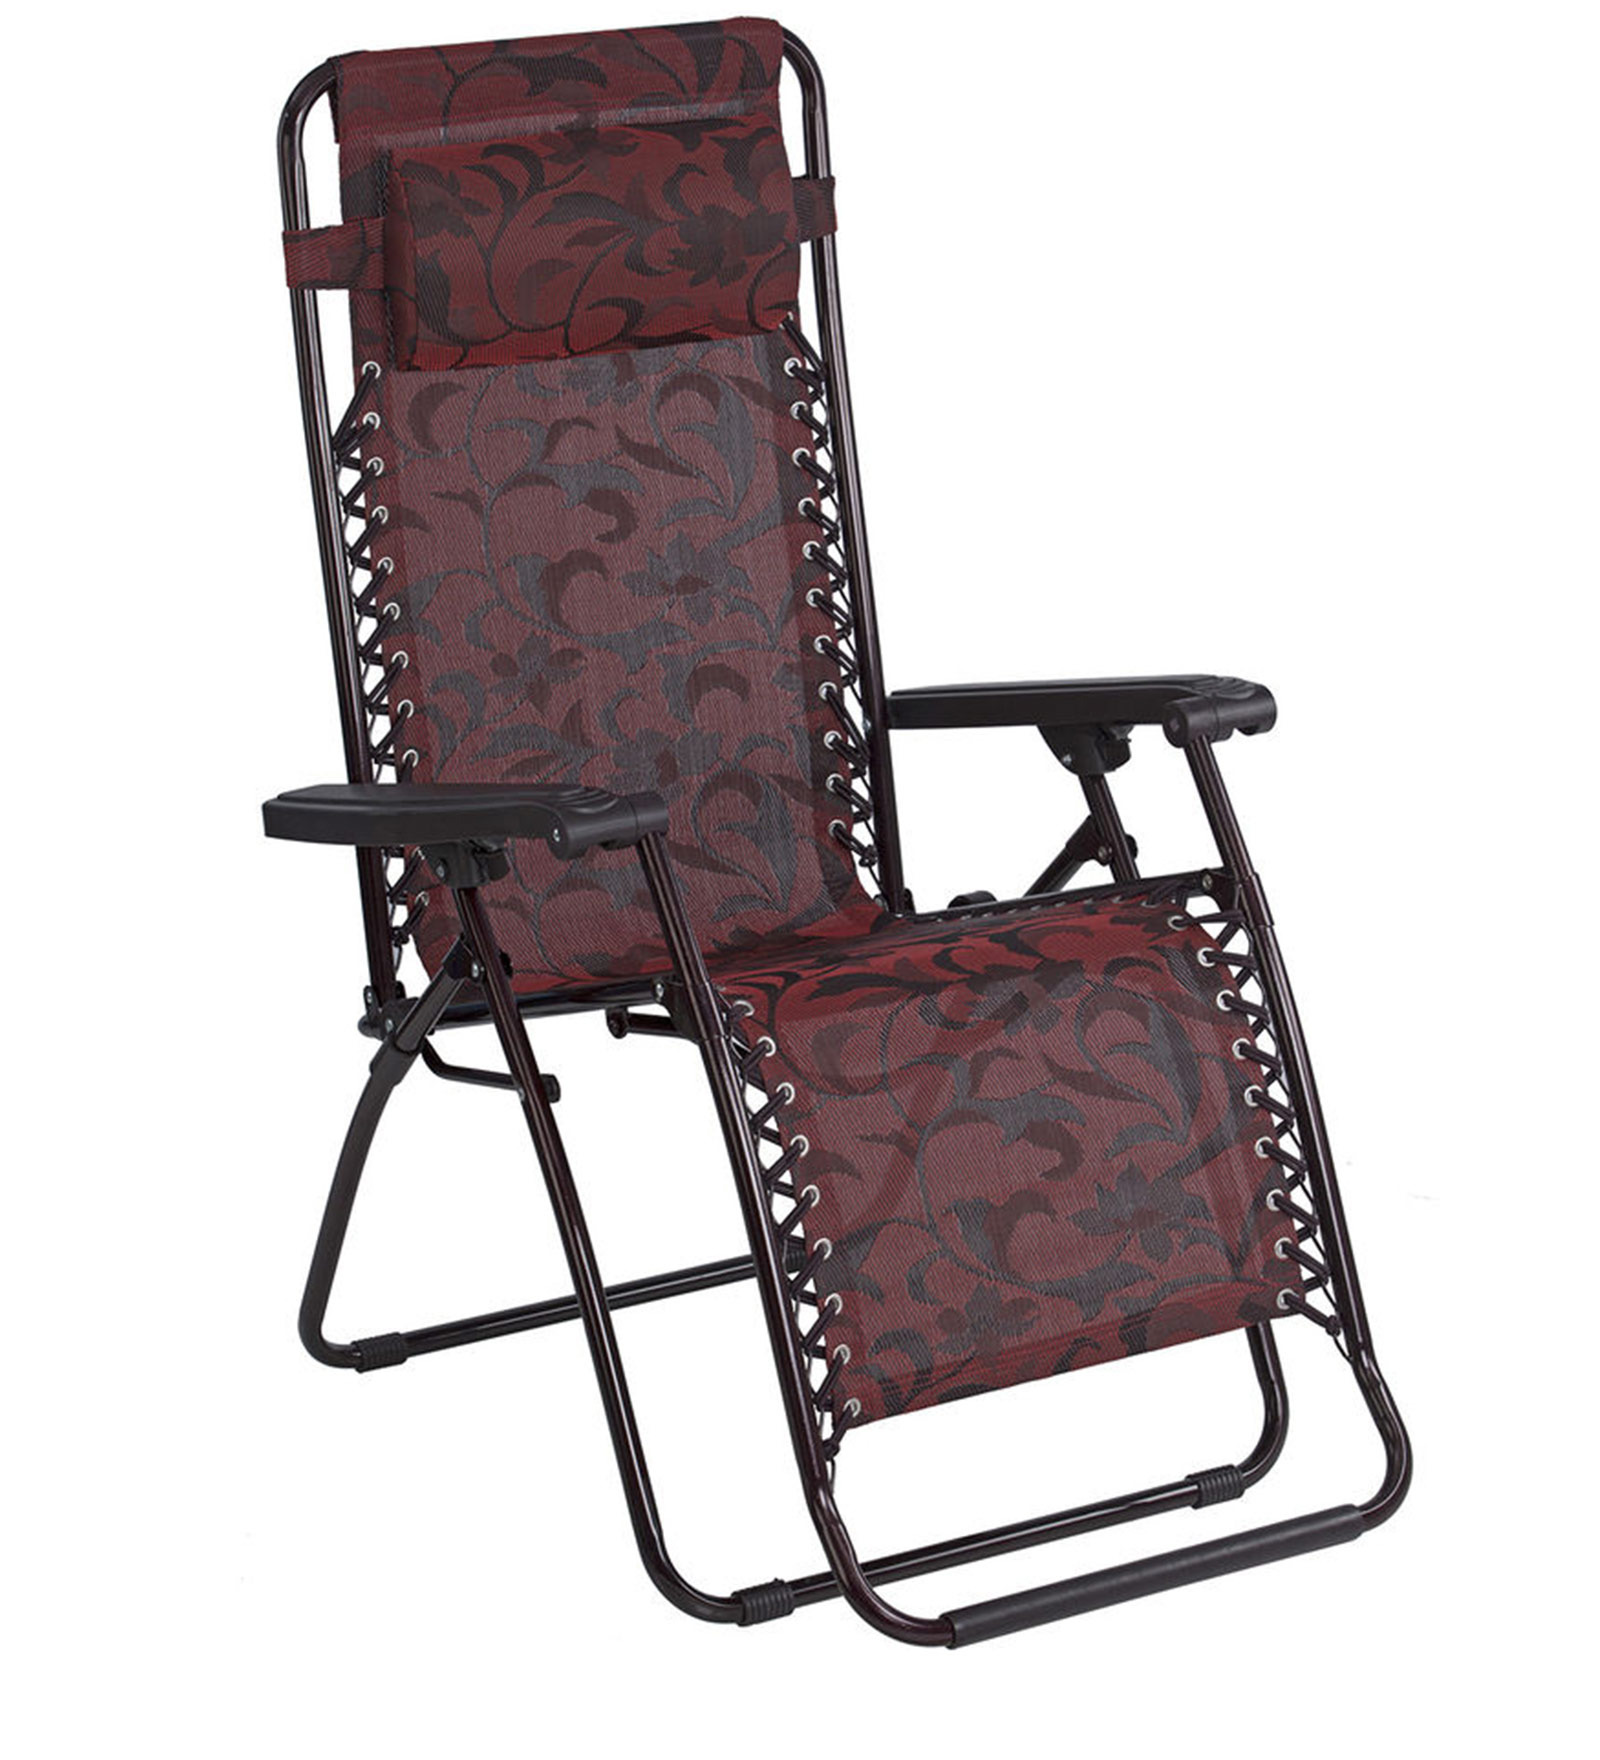Frolic Easy Foldable Chair in Purple & Red Colour by Nilkamal: (208, 9, 1474, 1674)
